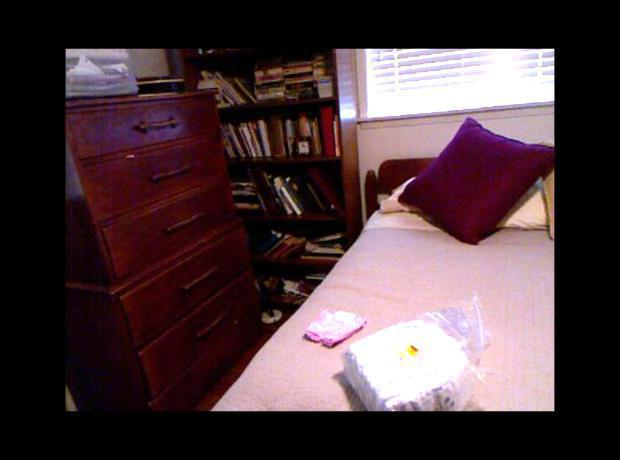Armario: (67, 100, 263, 399)
